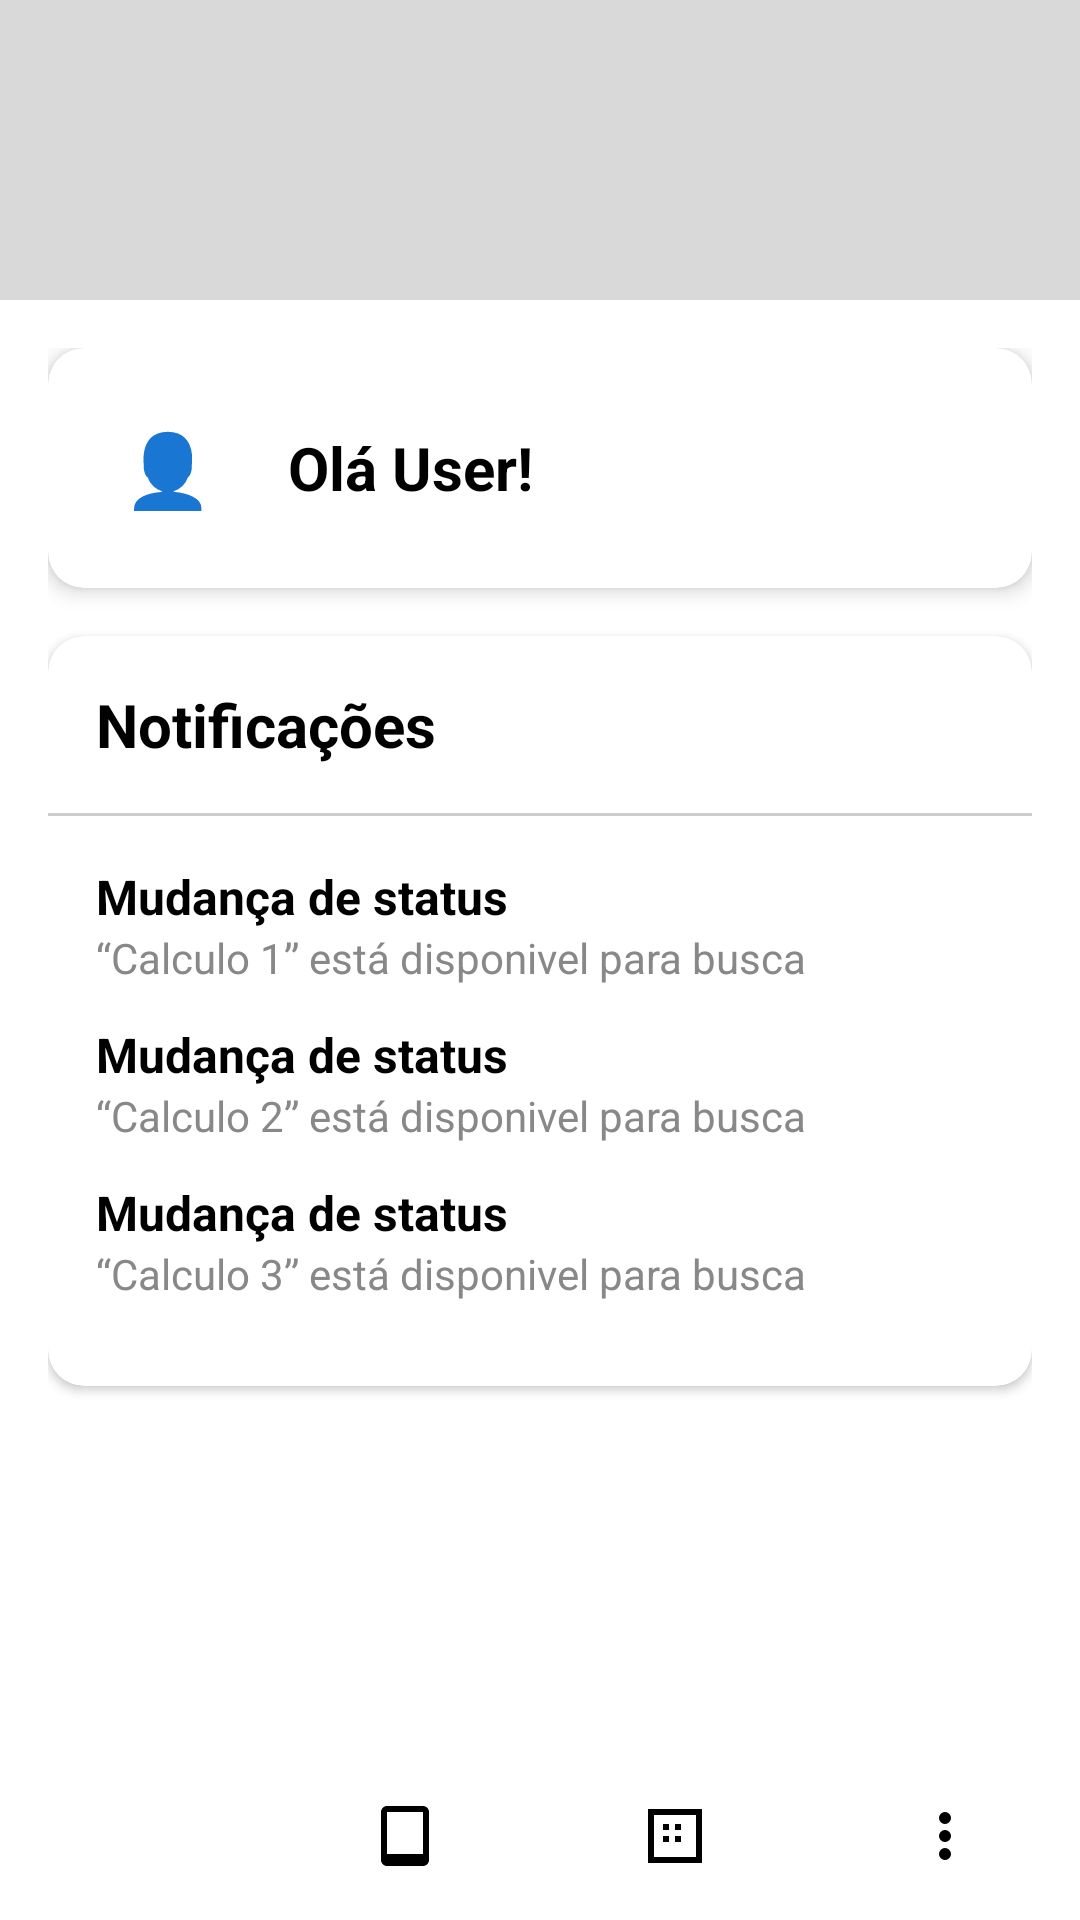

Icon bounding boxes for this 1080w x 1920h phone screenshot, format (x1, y1, x2, y2):
Mais opções: (939, 1812, 951, 1860)
